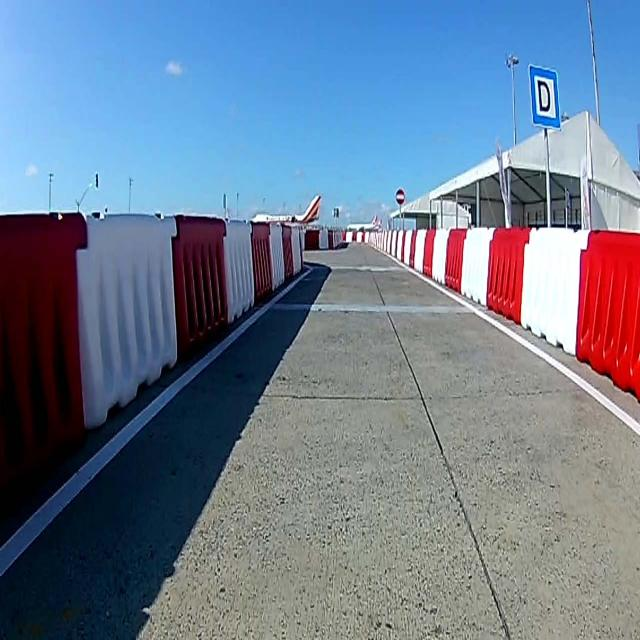durak: (529, 65, 561, 130)
girisyok: (395, 189, 405, 206)
